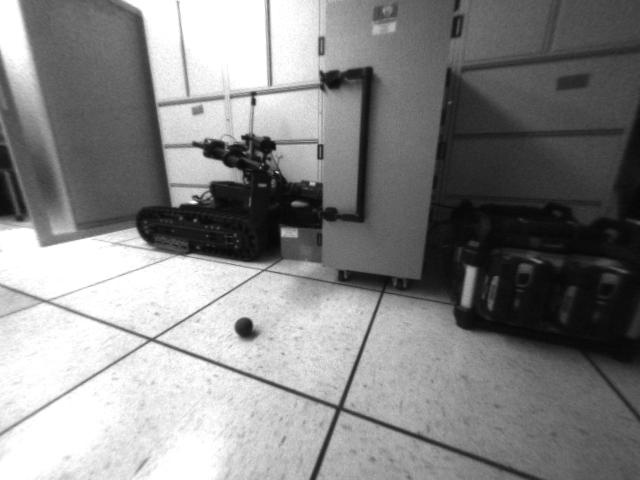dogtoy: (231, 311, 260, 342)
